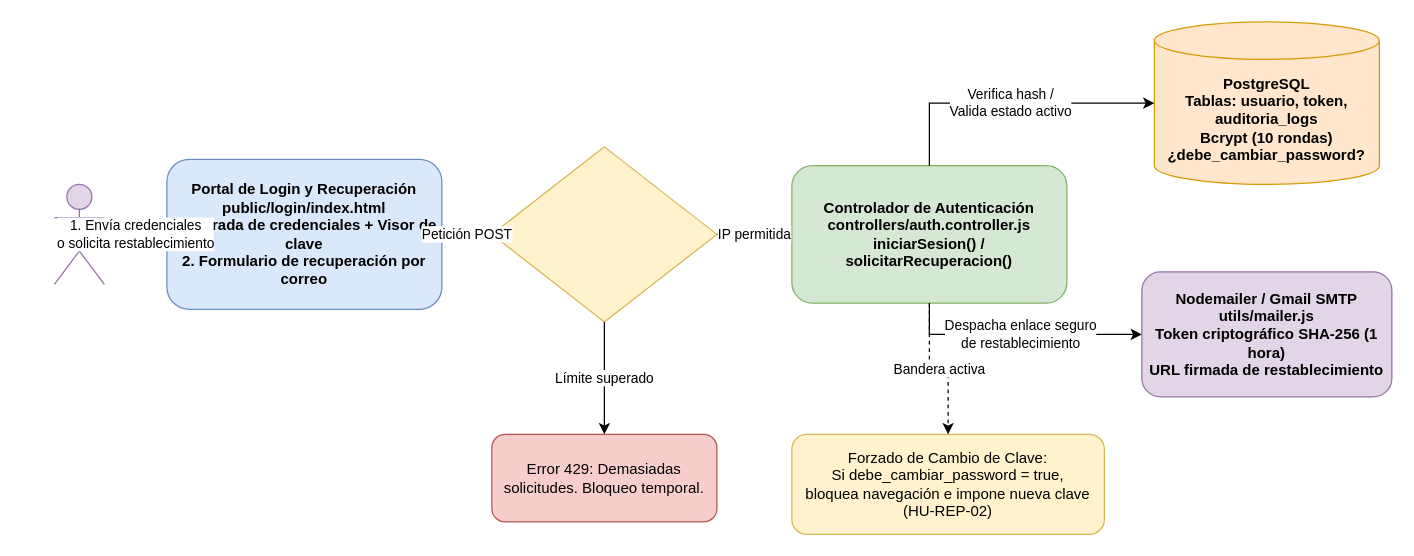
Image size: 1414x556. Some labels were removed from this diagram. Each missing label, with the centre of its shape:
Rate Limit Guard loginLimiter (5 / 15m) recuperarLimiter (3 / 15m): point (604, 234)
Usuario Invitado / Registrado: point (78, 233)
